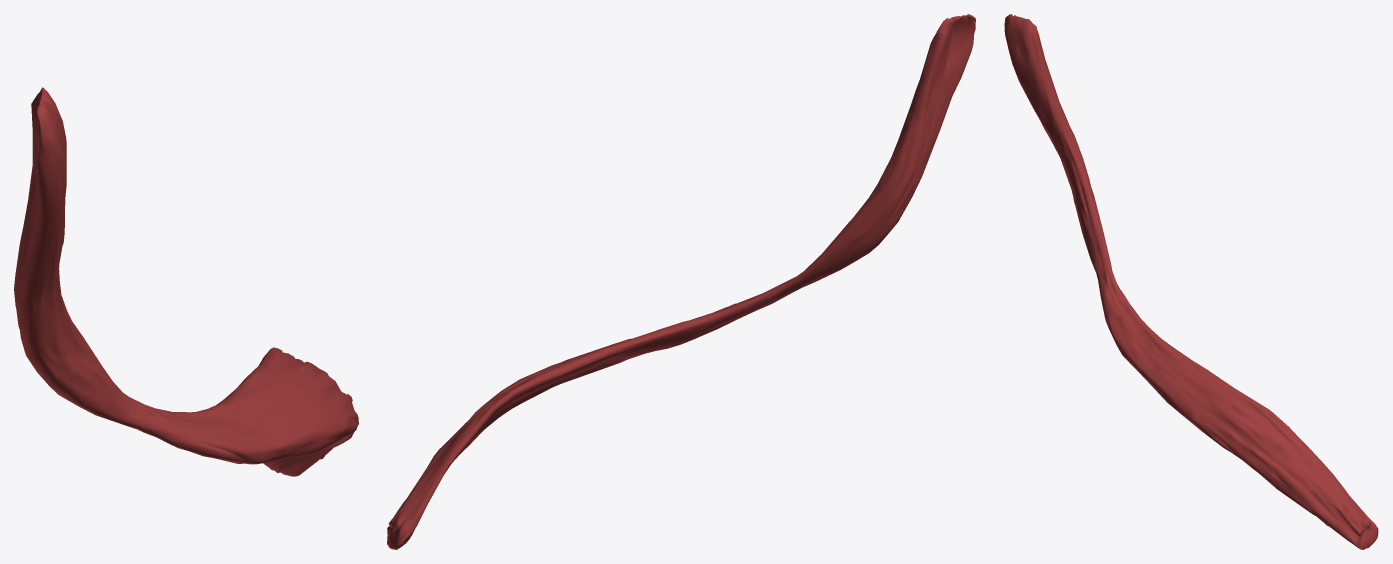
The model's file is omohyoid-muscle-l.glb.
The picture shows the model from 3 angles, left to right: view 1: azimuth 30°, elevation 25°; view 2: azimuth 150°, elevation 25°; view 3: azimuth 270°, elevation 25°; orthographic projection. The views are drawn at different scales.
Visible parts, largest first — view 1: Omohyoid muscle.l; view 2: Omohyoid muscle.l; view 3: Omohyoid muscle.l.
Part boxes in pixels (left/top/right/bottom): Omohyoid muscle.l: left=14, top=87, right=358, bottom=476; Omohyoid muscle.l: left=387, top=14, right=975, bottom=549; Omohyoid muscle.l: left=1004, top=14, right=1378, bottom=549.
Size of the model in its own units: 0.0908 by 0.1066 by 0.0935.
